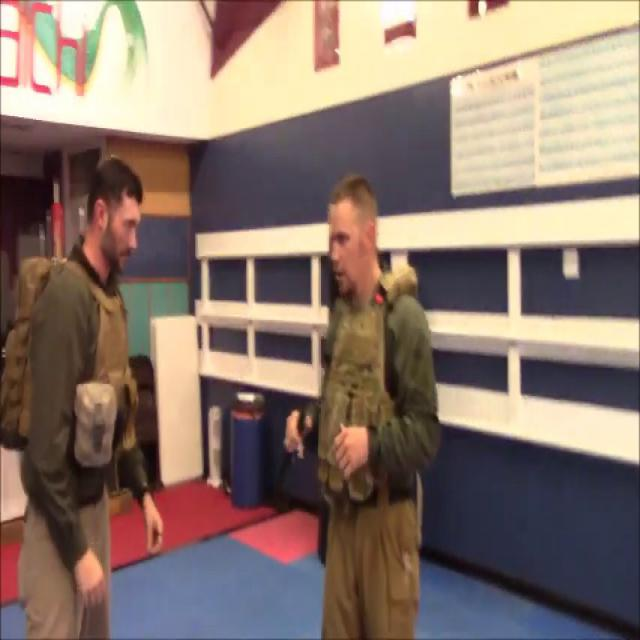knife: (271, 402, 315, 501)
